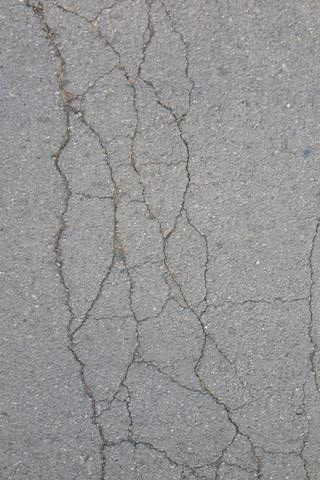A: (25, 2, 318, 480)
